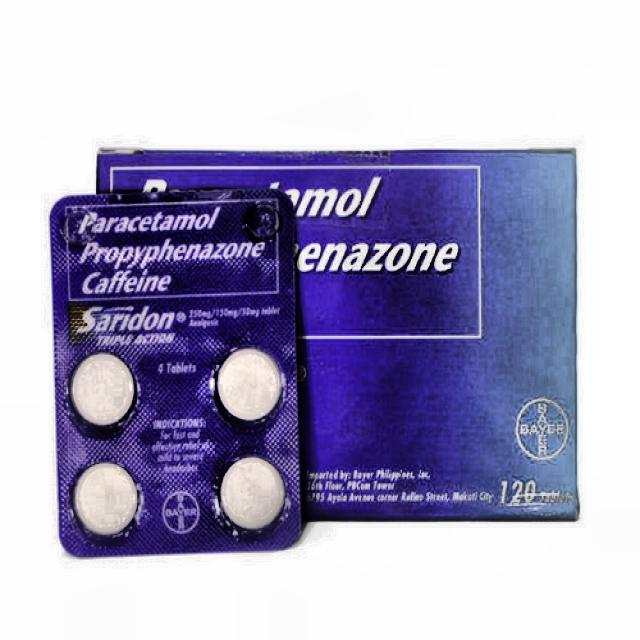Saridon: (53, 204, 298, 380)
